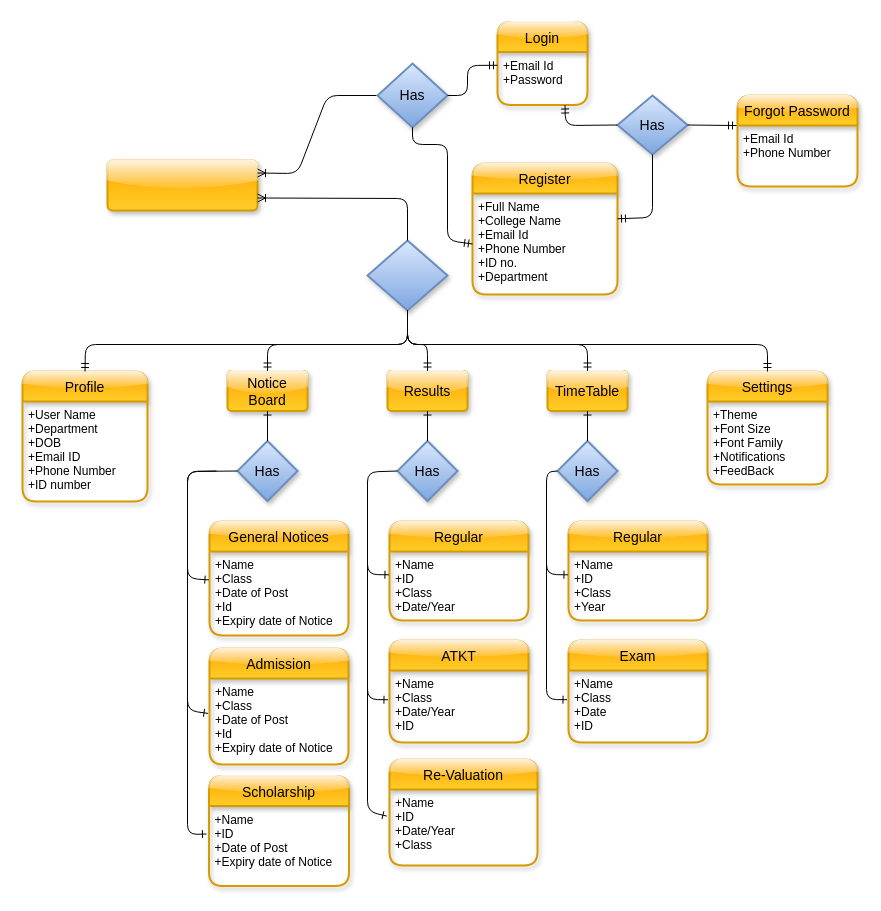
Image size: 881x911. Some labels were removed from this diagram. The shapes that lost their labels are listed below. From the top down, each one's centre as x and y in pixels, then its label:
the point at 183,186: User
the point at 408,276: Views
